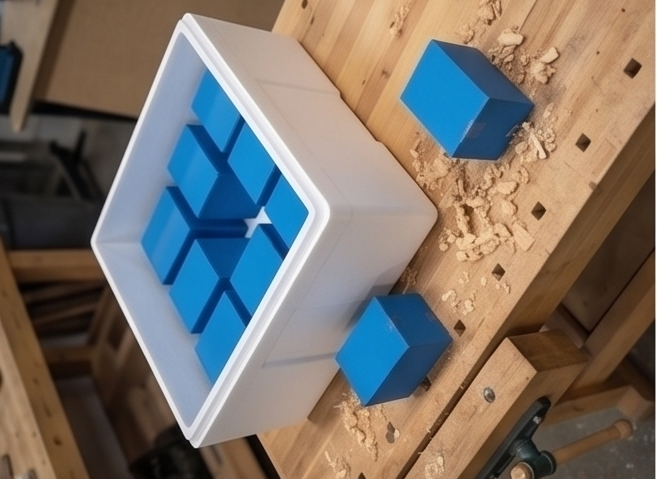blue_box: (122, 320, 259, 442), (207, 73, 322, 187), (410, 194, 517, 295), (393, 261, 490, 357), (409, 148, 488, 242), (368, 163, 429, 257), (405, 93, 465, 188), (410, 324, 465, 416), (373, 278, 431, 362), (346, 230, 395, 310)
container_box: (214, 32, 569, 464)
